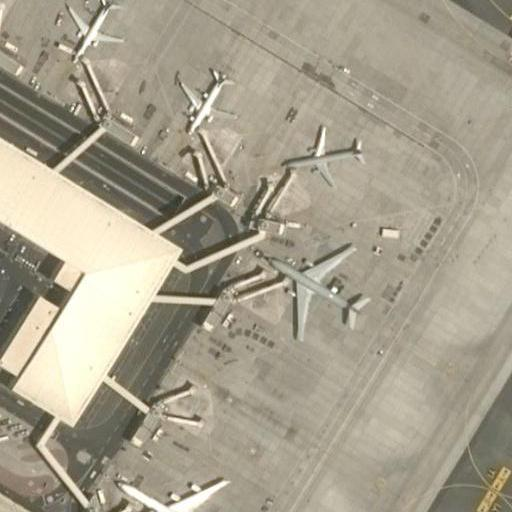Aircraft: (257, 227, 373, 337), (116, 466, 249, 512), (283, 117, 363, 180), (174, 62, 238, 129), (61, 0, 118, 52)
